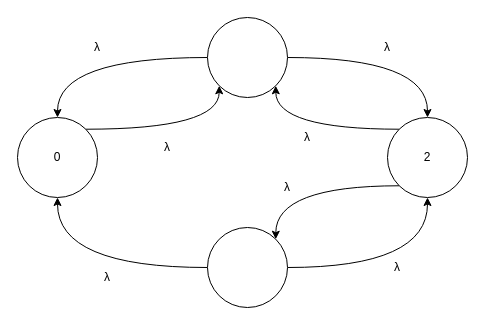
This 485x325 diagram has some shape labels left out. Each missing label, with the centre of its shape:
1a: point (247, 57)
1b: point (247, 267)
